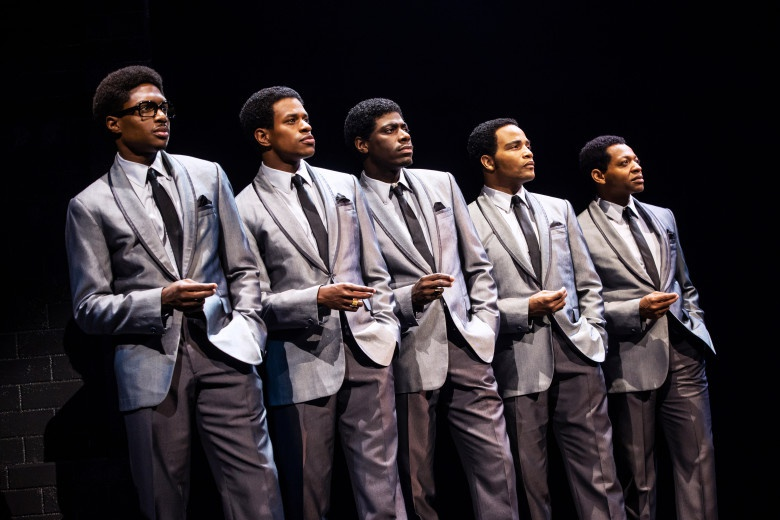bad: (121, 87, 183, 149), (273, 101, 325, 153), (371, 113, 423, 164)
